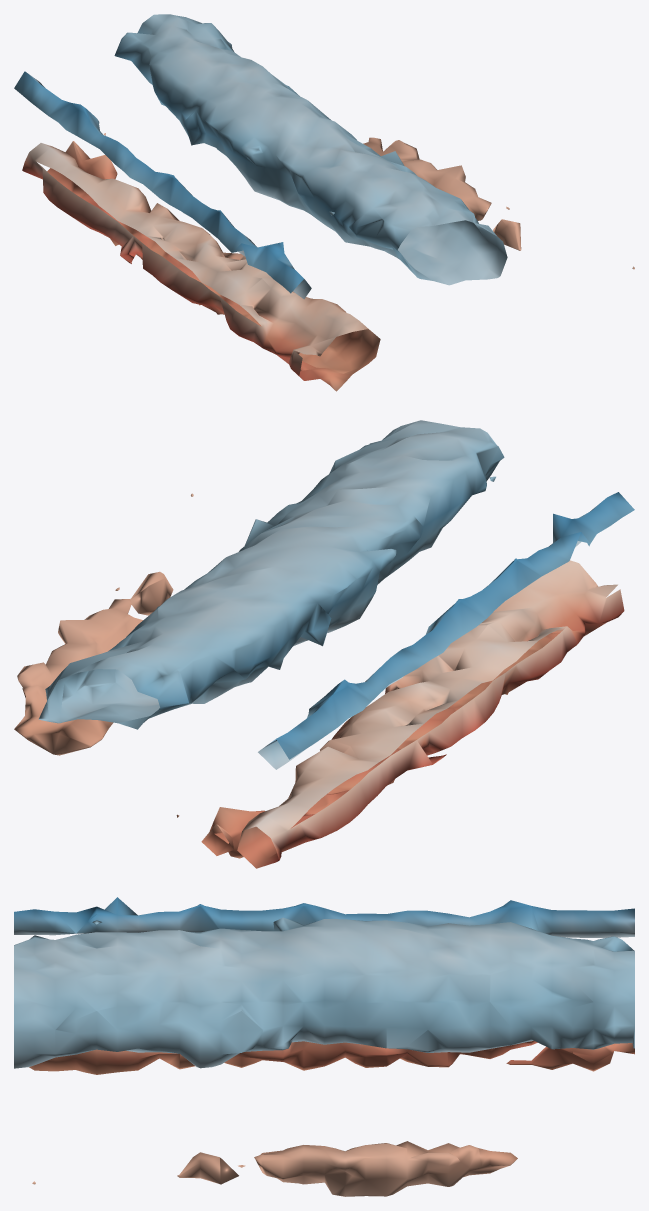
3 views of the same model, one above another, from view 1: azimuth 30°, elevation 25°; view 2: azimuth 150°, elevation 25°; view 3: azimuth 270°, elevation 25° (orthographic). The views are drawn at different scales.
Size of the model in its own units: 1.84 by 0.8086 by 2.5.
